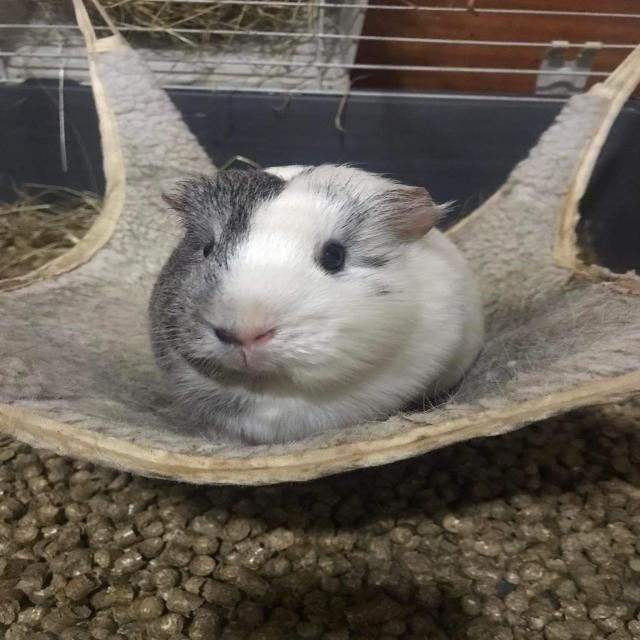guinea pig: (148, 164, 486, 446)
